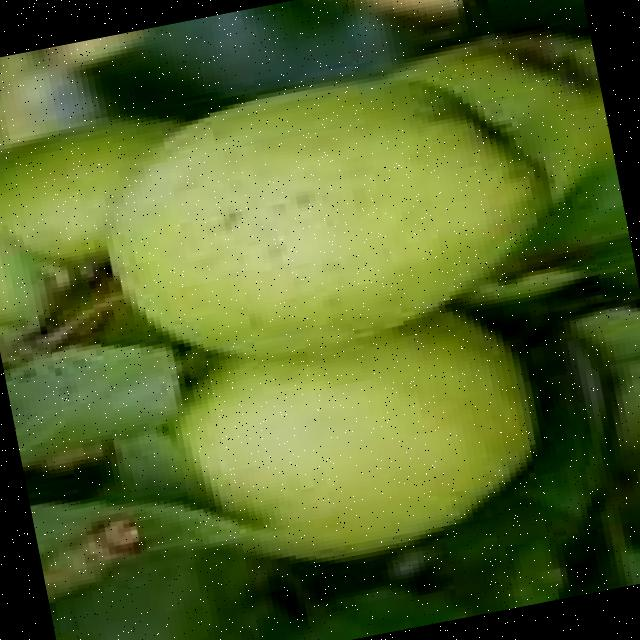Unripe: (81, 44, 570, 383)
